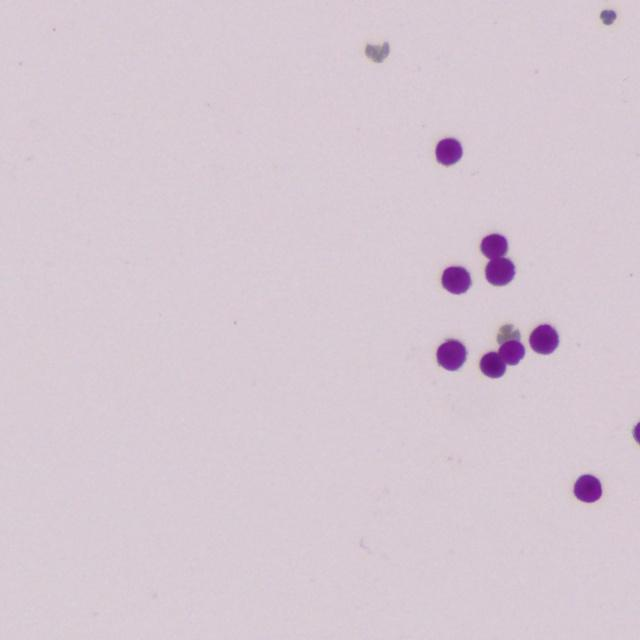non_viable: (497, 324, 519, 344), (599, 9, 616, 25)
viable: (437, 340, 466, 370), (530, 325, 558, 353), (485, 258, 514, 285), (442, 266, 470, 293), (576, 474, 601, 502), (436, 138, 461, 165), (480, 352, 505, 377), (499, 340, 524, 365), (481, 234, 507, 258), (633, 423, 639, 443)
